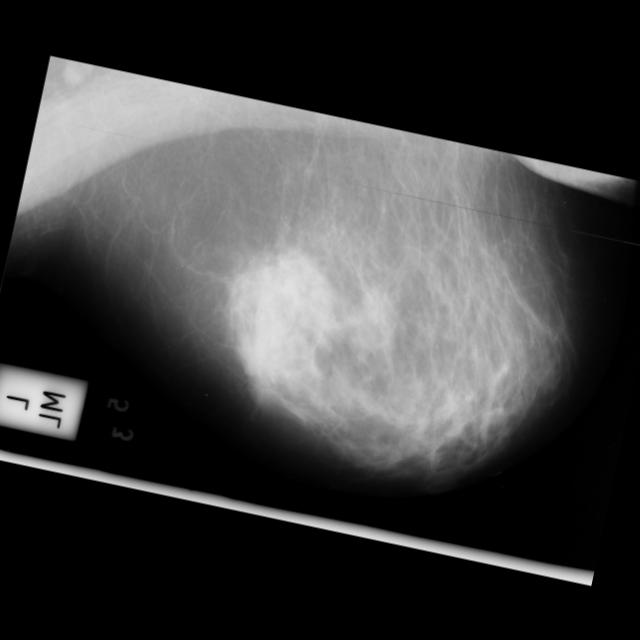ASYM: (0, 325, 332, 508)
